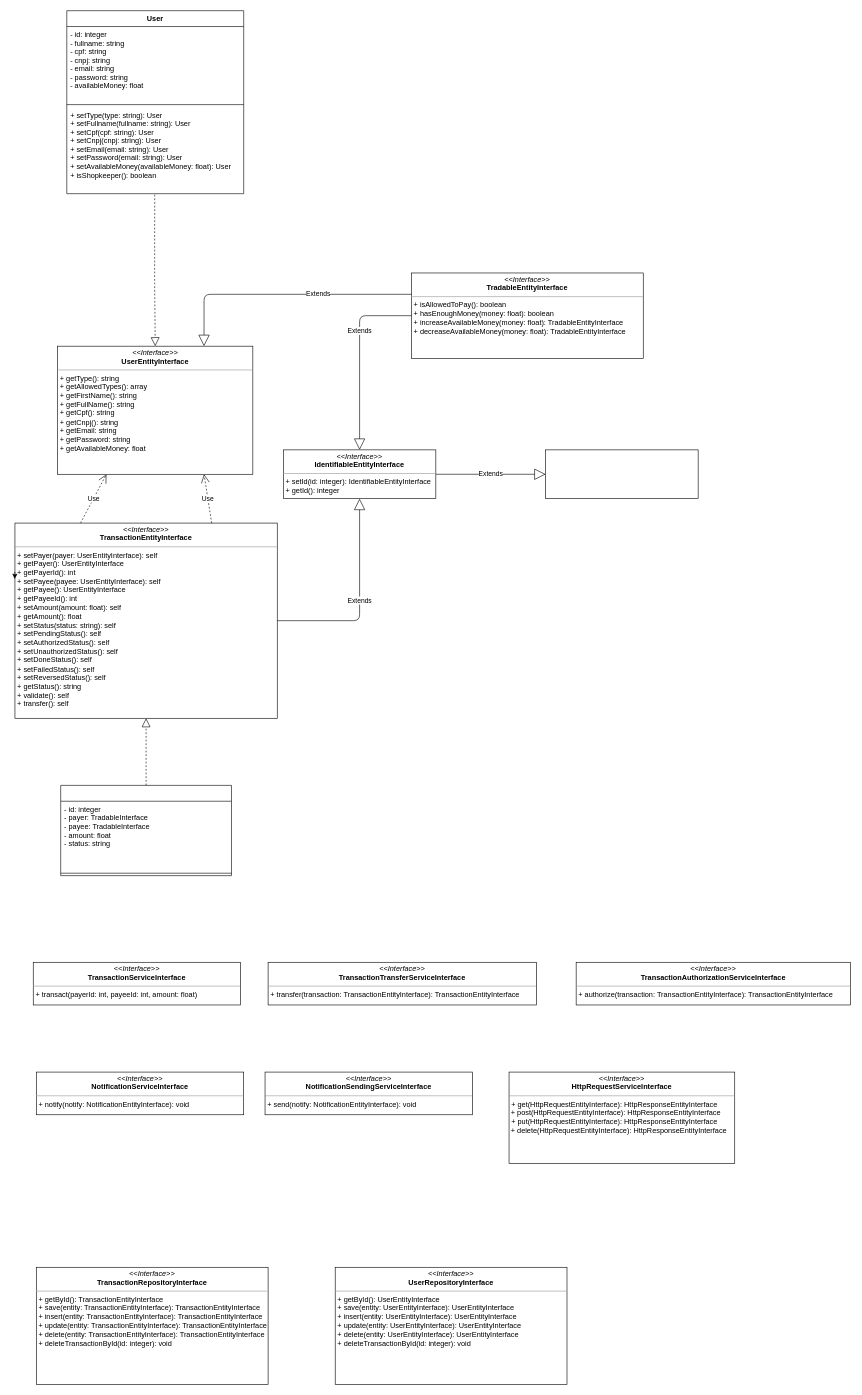
Image size: 862x1395. Some labels were removed from this diagram. Each missing label, with the box of its shape:
<<Interface>> EntityInterface + populate(data: array): EntityInterface: (545, 449, 698, 499)
Transaction: (60, 785, 231, 876)
